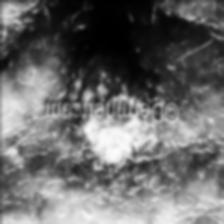Potentially Malignant Skin Tumors: (68, 52, 152, 100), (82, 118, 148, 164)
